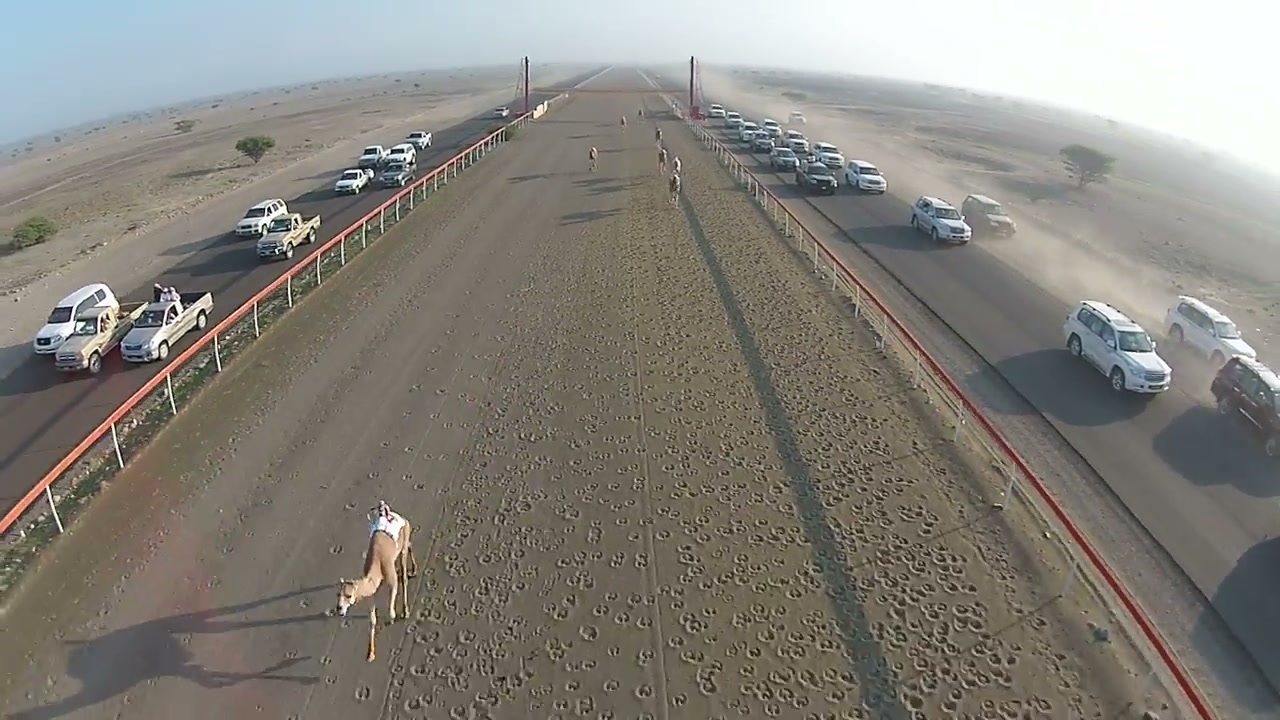animal_foot_print: (662, 222, 1035, 711), (397, 393, 653, 698)
